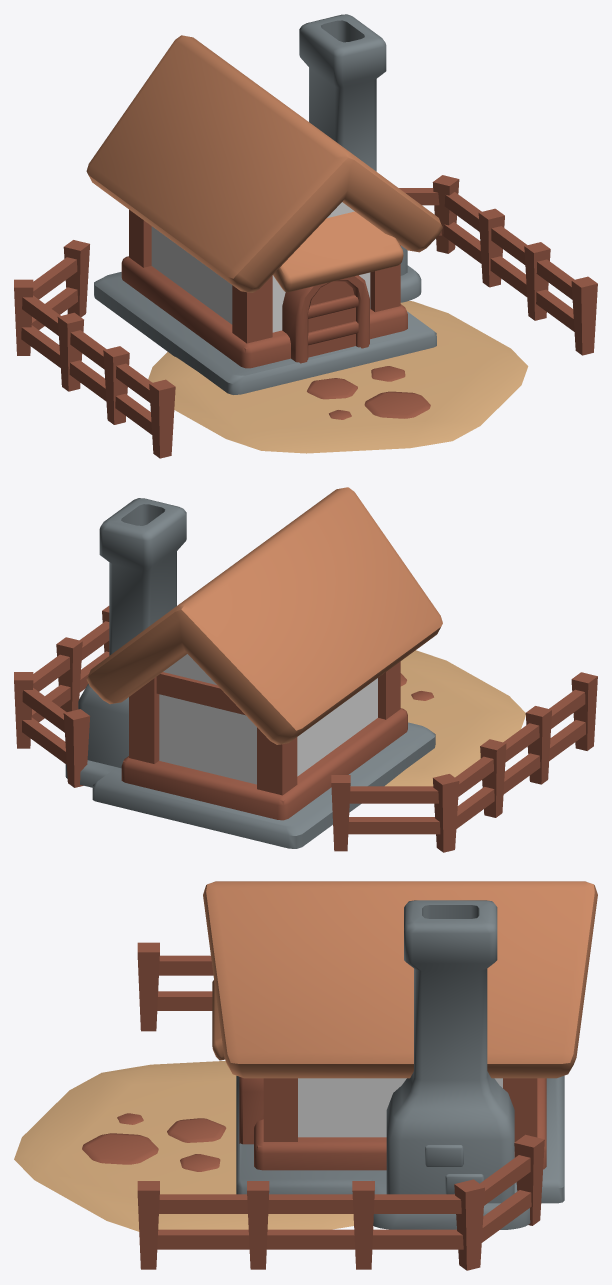
File: house.glb
3 views of the same model, one above another, from view 1: azimuth 30°, elevation 25°; view 2: azimuth 150°, elevation 25°; view 3: azimuth 270°, elevation 25° (orthographic). The views are drawn at different scales.
Visible parts, largest first — view 1: house; view 2: house; view 3: house.
Part boxes in pixels (left/top/right/bottom): house: left=14, top=14, right=597, bottom=458; house: left=14, top=487, right=597, bottom=852; house: left=14, top=881, right=597, bottom=1270.
Bounding box in the file's own units: 6.75 × 3.66 × 6.63.
